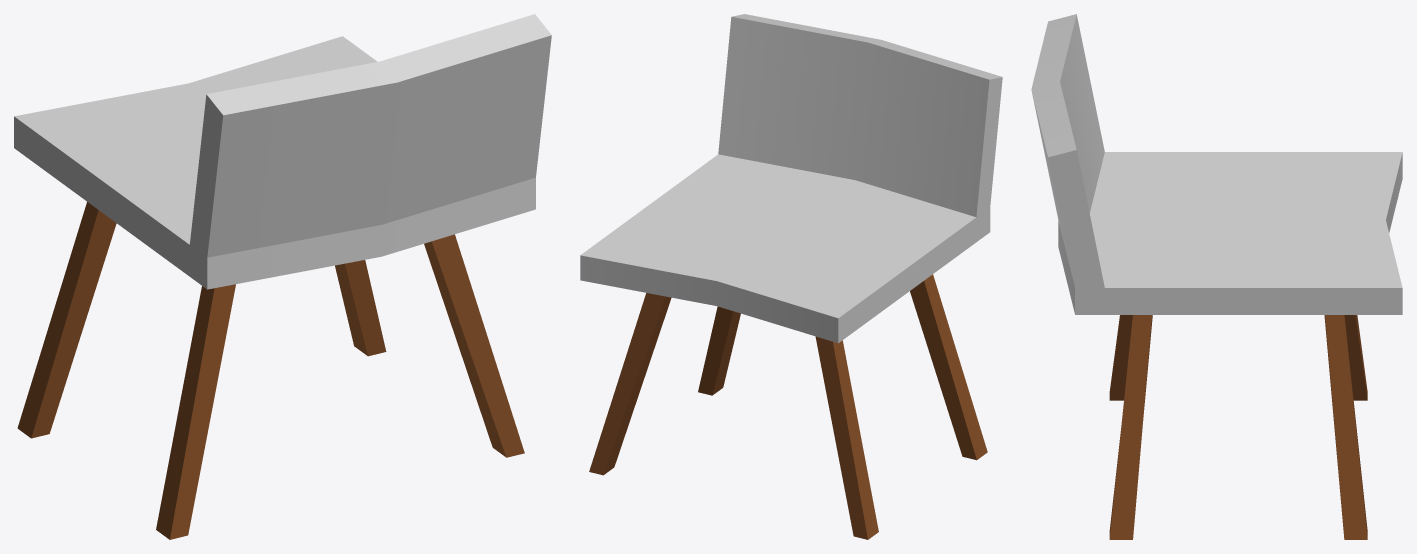
Rendered from chair.gltf.
3 views of the same model, side by side, from view 1: azimuth 30°, elevation 25°; view 2: azimuth 150°, elevation 25°; view 3: azimuth 270°, elevation 25° (orthographic). The views are drawn at different scales.
Visible parts, largest first — view 1: Leg12; view 2: Leg12; view 3: Leg12.
Boxes of the visible parts, x1,y1,x2,y2 form: Leg12: (14, 14, 551, 539); Leg12: (580, 14, 1002, 539); Leg12: (1031, 14, 1402, 539).
Size of the model in its own units: 2.92 by 3.58 by 3.12.
1 material, 1 textured.
